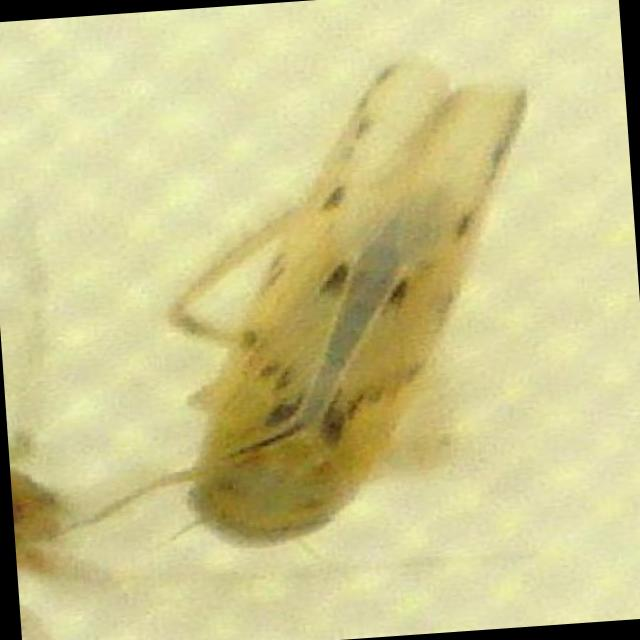green-leafhopper: (133, 48, 564, 552)
